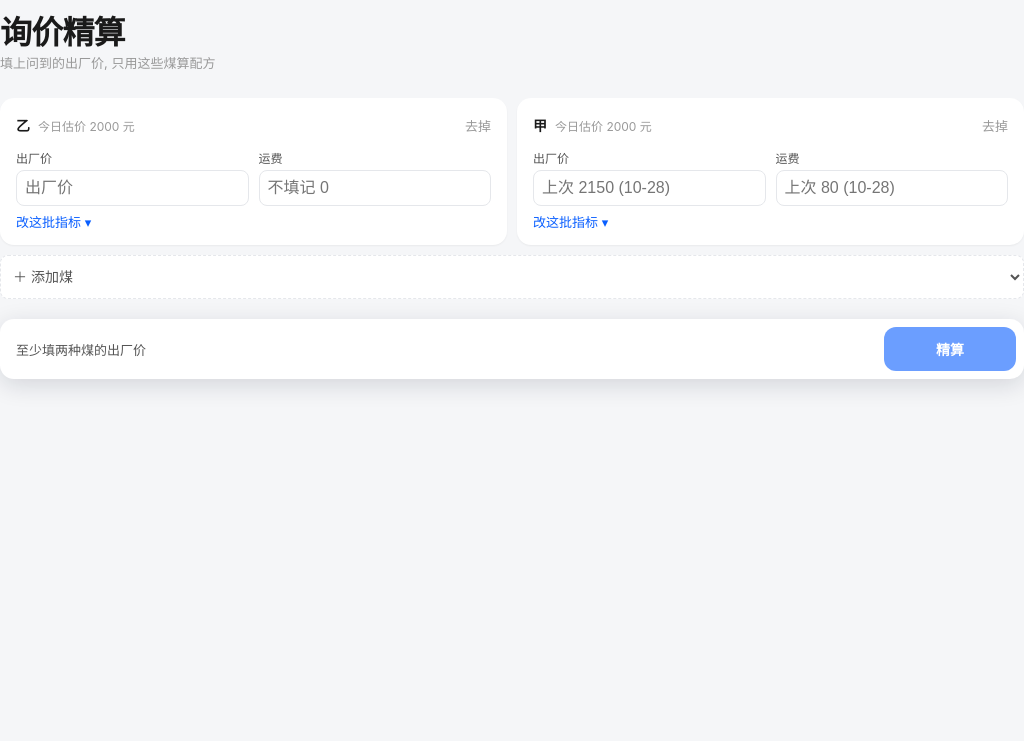
Test: 乱序求解只显示最新, 同会话重复存档仍用同一个 batchId
Check: the dropdown named "添加煤" is shown, box [0, 255, 1023, 299]
Type "2150" into the field named "甲 出厂价" at (649,188), box [533, 170, 766, 206]
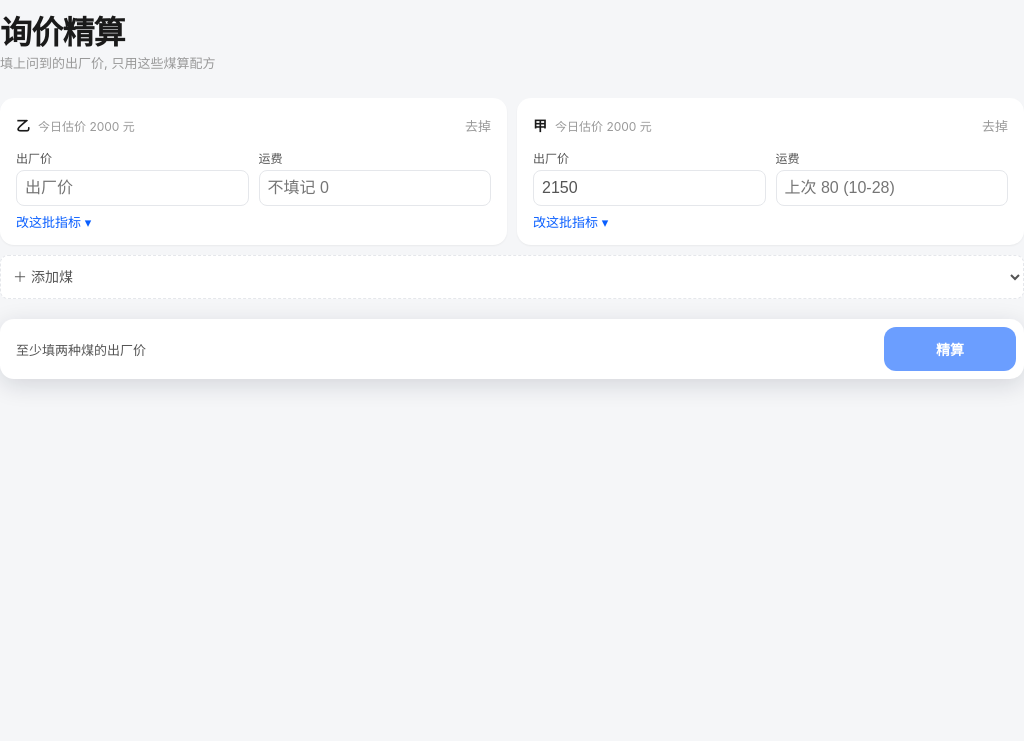
Type "1980" into the field named "乙 出厂价" at (132,188), box [16, 170, 248, 206]
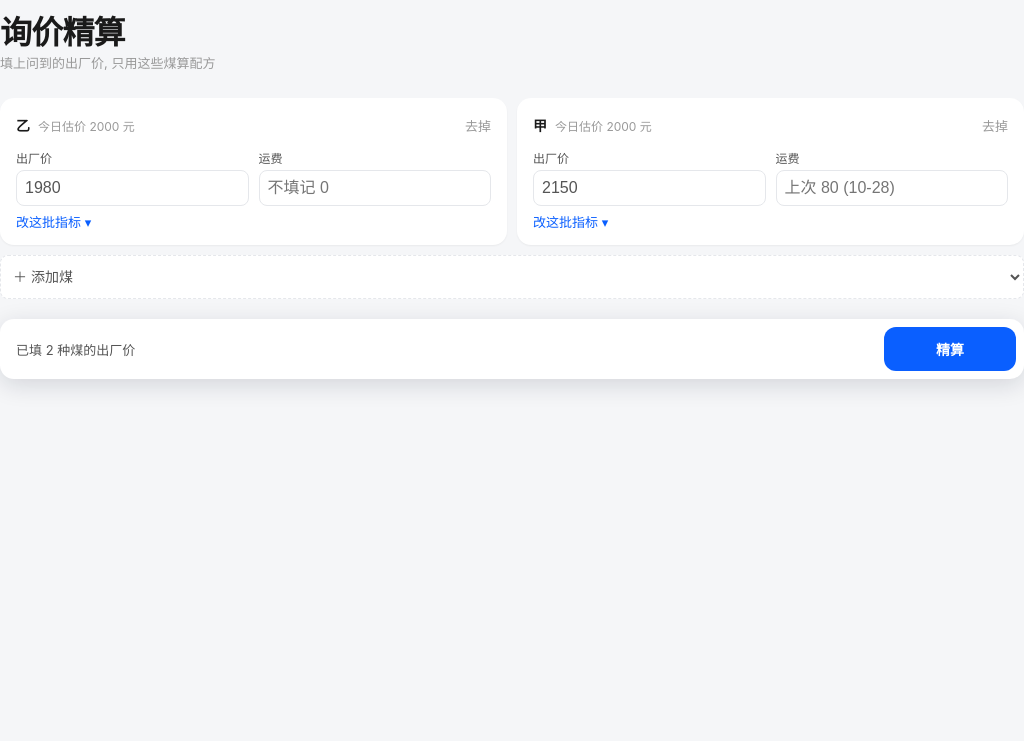
Click the button "精算" at (950,349), box [884, 327, 1016, 371]
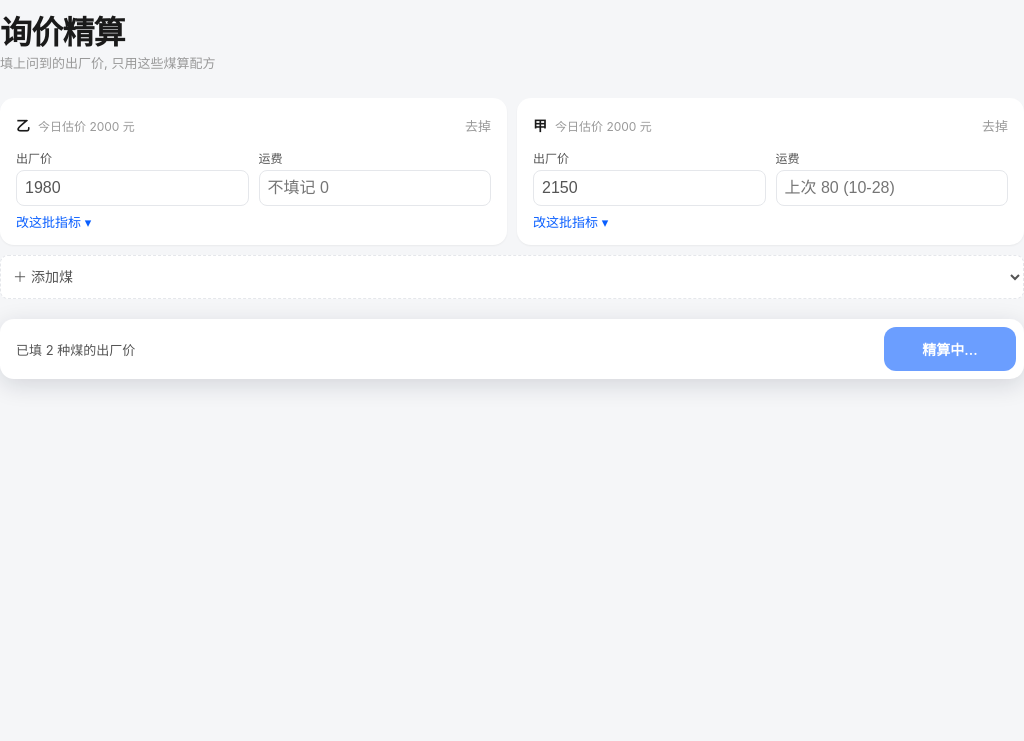
Replace the text in the field named "甲 出厂价" with "2180" at (649,188), box [533, 170, 766, 206]
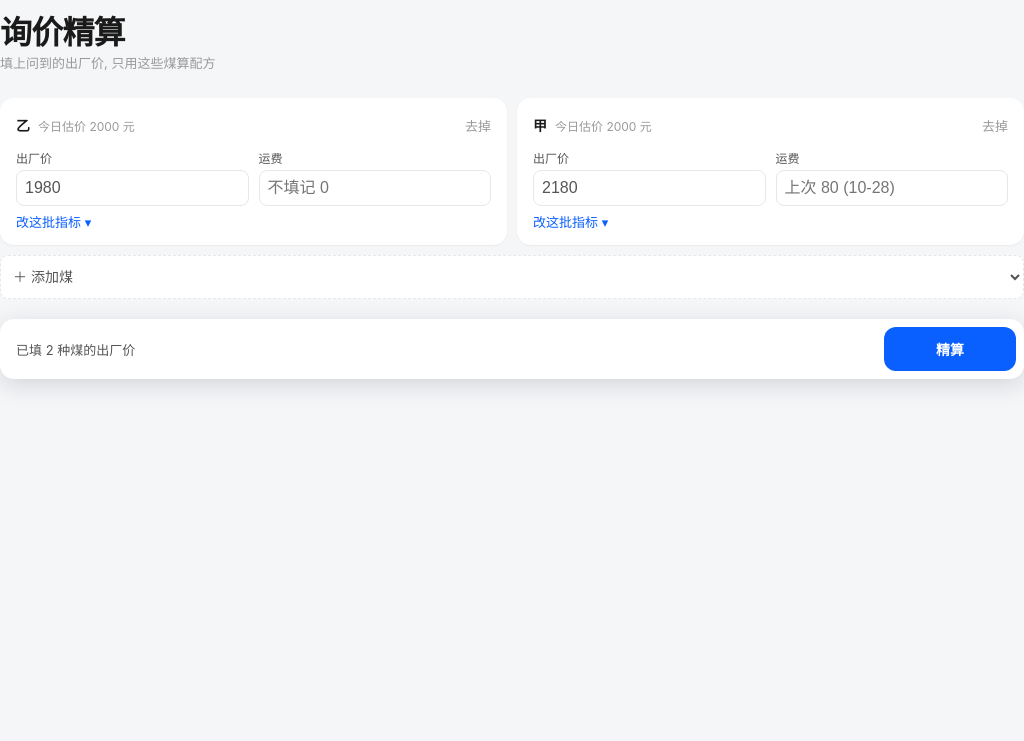
Click the button "精算" at (950,349), box [884, 327, 1016, 371]
(page scrolled)
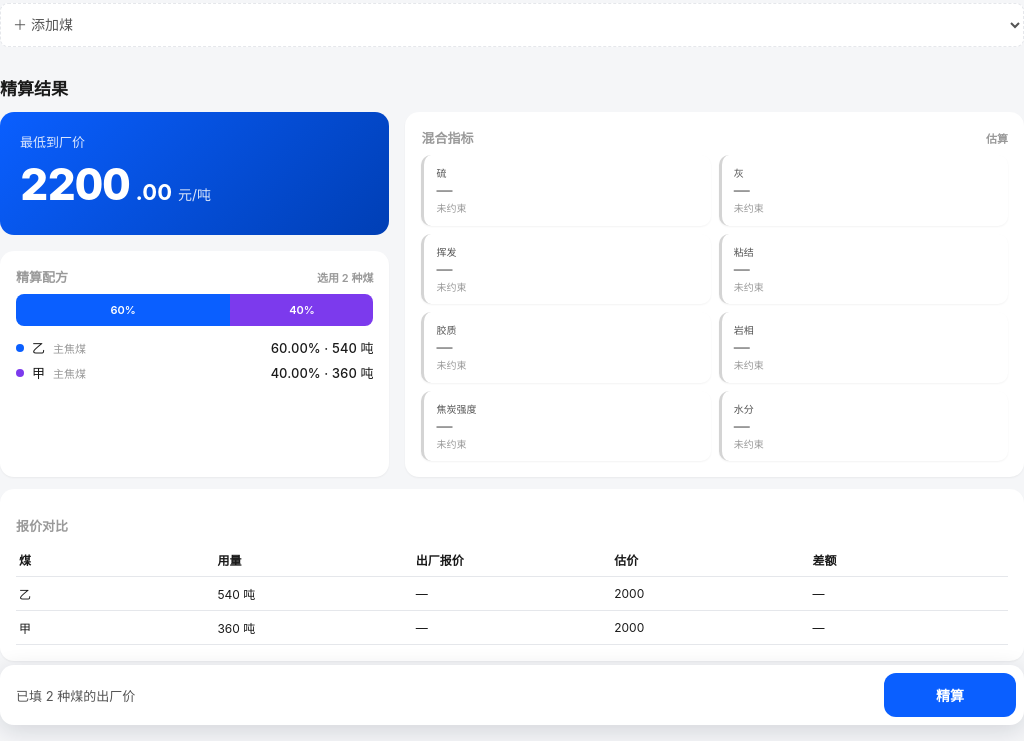
Check: the text "2200" is shown, box [20, 157, 130, 211]
